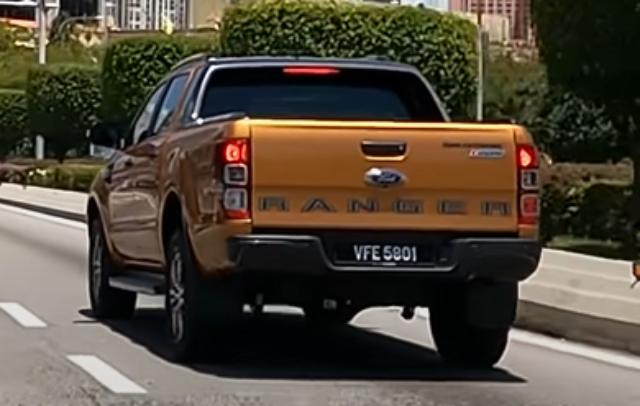License_Plate: (336, 241, 437, 267)
car: (85, 52, 544, 368)
